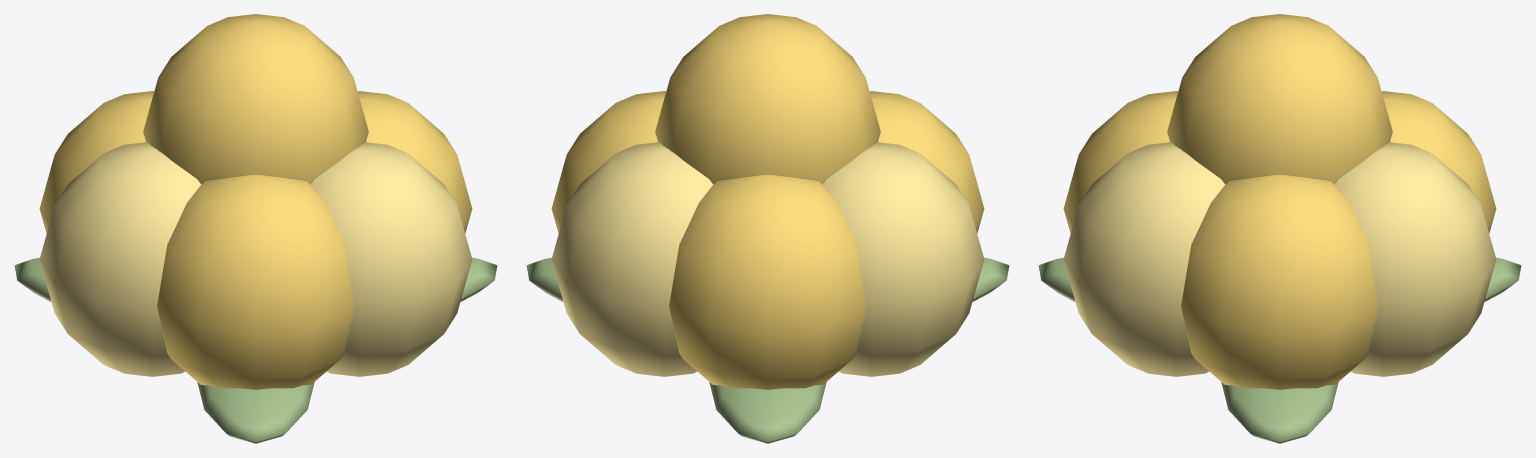
The model's file is food-tundra.glb.
3 views of the same model, side by side, from view 1: azimuth 30°, elevation 25°; view 2: azimuth 150°, elevation 25°; view 3: azimuth 270°, elevation 25° (orthographic).
Parts seen in each view (by area): view 1: Cloudberry drupelet.004, Cloudberry drupelet.006, Cloudberry drupelet.003, Cloudberry drupelet.005, Cloudberry drupelet.001, Cloudberry drupelet.002, Cloudberry sepals, Cloudberry sepals.001, Cloudberry sepals.002; view 2: Cloudberry drupelet.002, Cloudberry drupelet.006, Cloudberry drupelet, Cloudberry drupelet.003, Cloudberry drupelet.001, Cloudberry drupelet.004, Cloudberry sepals.002, Cloudberry sepals.001, Cloudberry sepals; view 3: Cloudberry drupelet.001, Cloudberry drupelet.006, Cloudberry drupelet, Cloudberry drupelet.005, Cloudberry drupelet.002, Cloudberry drupelet.004, Cloudberry sepals.001, Cloudberry sepals.002, Cloudberry sepals.
Part boxes in pixels (x1=…): Cloudberry drupelet.004: x1=157, y1=175, x2=354, y2=389; Cloudberry drupelet.006: x1=143, y1=14, x2=368, y2=184; Cloudberry drupelet.003: x1=39, y1=142, x2=201, y2=376; Cloudberry drupelet.005: x1=310, y1=142, x2=472, y2=376; Cloudberry drupelet.001: x1=357, y1=91, x2=472, y2=233; Cloudberry drupelet.002: x1=39, y1=91, x2=154, y2=233; Cloudberry sepals: x1=197, y1=382, x2=314, y2=443; Cloudberry sepals.001: x1=460, y1=257, x2=497, y2=301; Cloudberry sepals.002: x1=14, y1=257, x2=51, y2=301; Cloudberry drupelet.002: x1=669, y1=175, x2=866, y2=389; Cloudberry drupelet.006: x1=655, y1=14, x2=880, y2=184; Cloudberry drupelet: x1=551, y1=142, x2=713, y2=376; Cloudberry drupelet.003: x1=822, y1=142, x2=984, y2=376; Cloudberry drupelet.001: x1=551, y1=91, x2=666, y2=233; Cloudberry drupelet.004: x1=869, y1=91, x2=984, y2=233; Cloudberry sepals.002: x1=709, y1=382, x2=826, y2=443; Cloudberry sepals.001: x1=526, y1=257, x2=563, y2=301; Cloudberry sepals: x1=972, y1=257, x2=1009, y2=301; Cloudberry drupelet.001: x1=1181, y1=175, x2=1378, y2=389; Cloudberry drupelet.006: x1=1167, y1=14, x2=1392, y2=184; Cloudberry drupelet: x1=1334, y1=142, x2=1496, y2=376; Cloudberry drupelet.005: x1=1063, y1=142, x2=1225, y2=376; Cloudberry drupelet.002: x1=1381, y1=91, x2=1496, y2=233; Cloudberry drupelet.004: x1=1063, y1=91, x2=1178, y2=233; Cloudberry sepals.001: x1=1221, y1=382, x2=1338, y2=443; Cloudberry sepals.002: x1=1484, y1=257, x2=1521, y2=301; Cloudberry sepals: x1=1038, y1=257, x2=1075, y2=301.
Size of the model in its own units: 0.77 by 0.535 by 0.7275.
